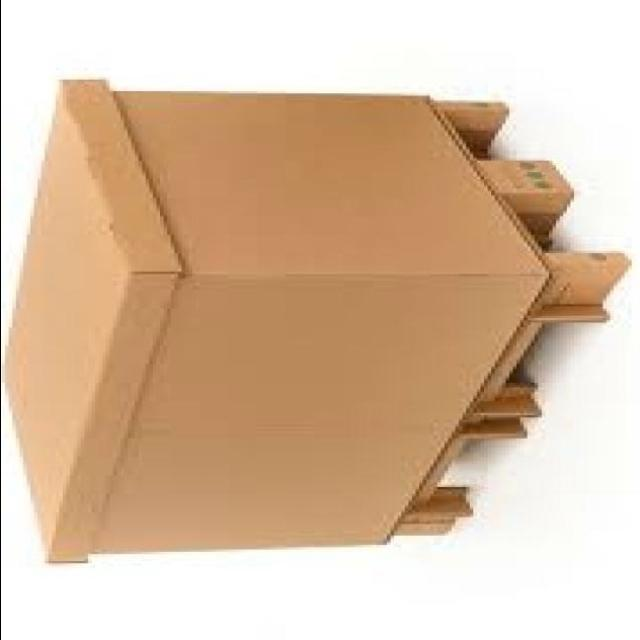cardboard paper: (3, 83, 625, 563)
